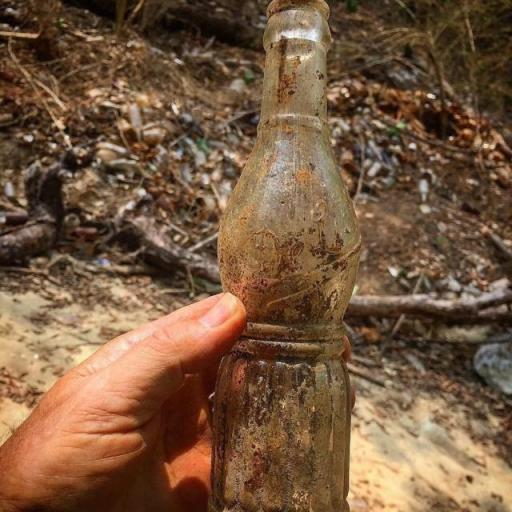glass: (172, 0, 386, 512)
